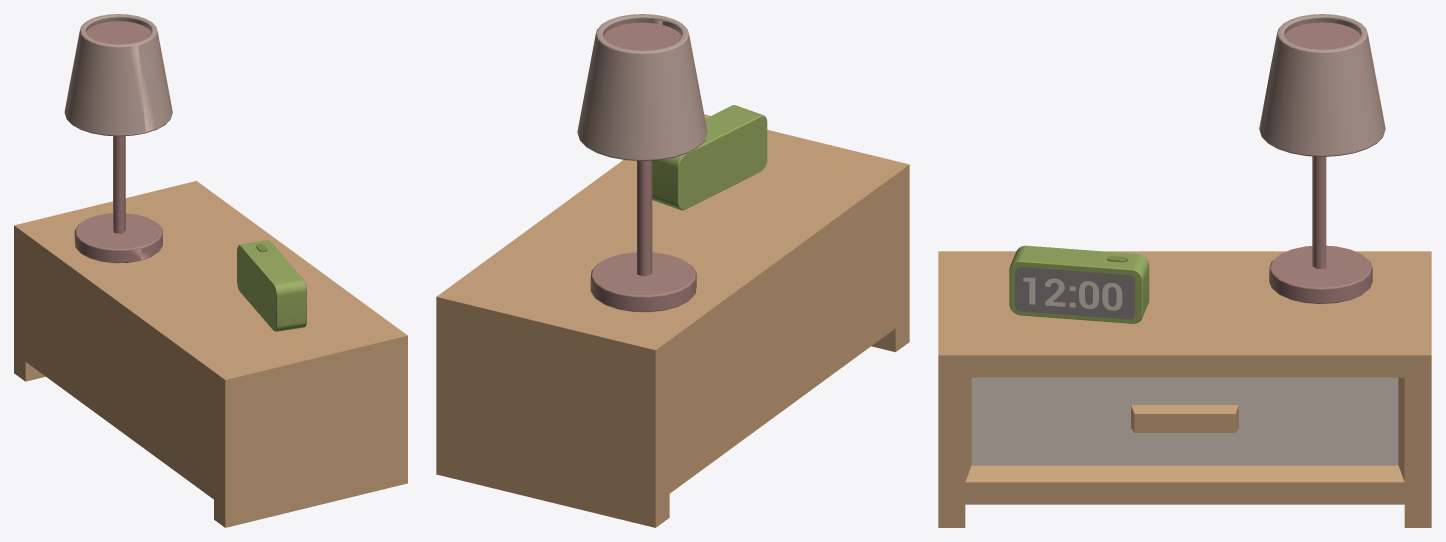
Rendered from bed-cabinet-transformed.glb.
The picture shows the model from 3 angles, left to right: view 1: azimuth 30°, elevation 25°; view 2: azimuth 150°, elevation 25°; view 3: azimuth 270°, elevation 25°; orthographic projection. The views are drawn at different scales.
Parts seen in each view (by area): view 1: Cube 63.005, Cylinder 4.001, Rectangle 2.002, Cylinder 2.003, Cylinder 3.001, Cylinder 6; view 2: Cube 63.005, Cylinder 4.001, Rectangle 2.002, Cylinder 2.003, Cylinder 3.001, Cylinder 6; view 3: Cube 63.005, Cube 64, Cylinder 4.001, Cylinder 2.003, Rectangle 2.002, Rectangle.003, Cube 65, Cylinder 3.001, Cylinder 6, Merged Geometry 3.
Part boxes in pixels (<box>): Cube 63.005: <box>14,181,407,527</box>; Cylinder 4.001: <box>64,14,172,136</box>; Rectangle 2.002: <box>237,240,306,331</box>; Cylinder 2.003: <box>74,213,162,263</box>; Cylinder 3.001: <box>113,136,125,233</box>; Cylinder 6: <box>86,21,151,44</box>; Cube 63.005: <box>436,114,909,527</box>; Cylinder 4.001: <box>577,14,707,160</box>; Rectangle 2.002: <box>652,105,767,210</box>; Cylinder 2.003: <box>590,252,696,312</box>; Cylinder 3.001: <box>637,160,652,276</box>; Cylinder 6: <box>603,22,681,50</box>; Cube 63.005: <box>938,251,1431,527</box>; Cube 64: <box>971,377,1398,465</box>; Cylinder 4.001: <box>1259,14,1385,156</box>; Cylinder 2.003: <box>1269,245,1372,304</box>; Rectangle 2.002: <box>1009,245,1149,323</box>; Rectangle.003: <box>1015,267,1134,319</box>; Cube 65: <box>1131,405,1238,432</box>; Cylinder 3.001: <box>1312,156,1326,269</box>; Cylinder 6: <box>1284,22,1360,49</box>; Merged Geometry 3: <box>1023,277,1122,310</box>.
Bounding box in the file's own units: 0.785 × 1.49 × 1.57.
